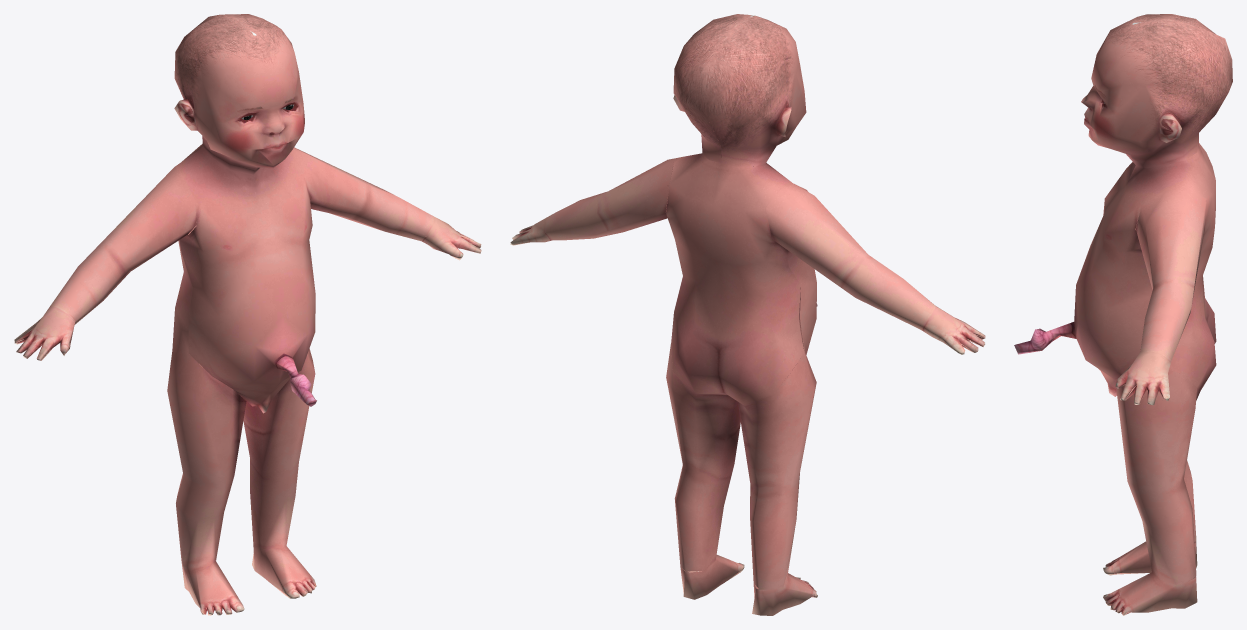
File: WeirdBaby.glb
3 views of the same model, side by side, from view 1: azimuth 30°, elevation 25°; view 2: azimuth 150°, elevation 25°; view 3: azimuth 270°, elevation 25° (orthographic).
Visible parts, largest first — view 1: BabyRod; view 2: BabyRod; view 3: BabyRod.
Boxes of the visible parts, left/top/right/bottom form: BabyRod: left=14, top=14, right=481, bottom=615; BabyRod: left=510, top=14, right=985, bottom=615; BabyRod: left=1014, top=14, right=1232, bottom=615.
Size of the model in its own units: 46.73 by 55.15 by 19.23.
Materials: 1 (1 with a texture image).
